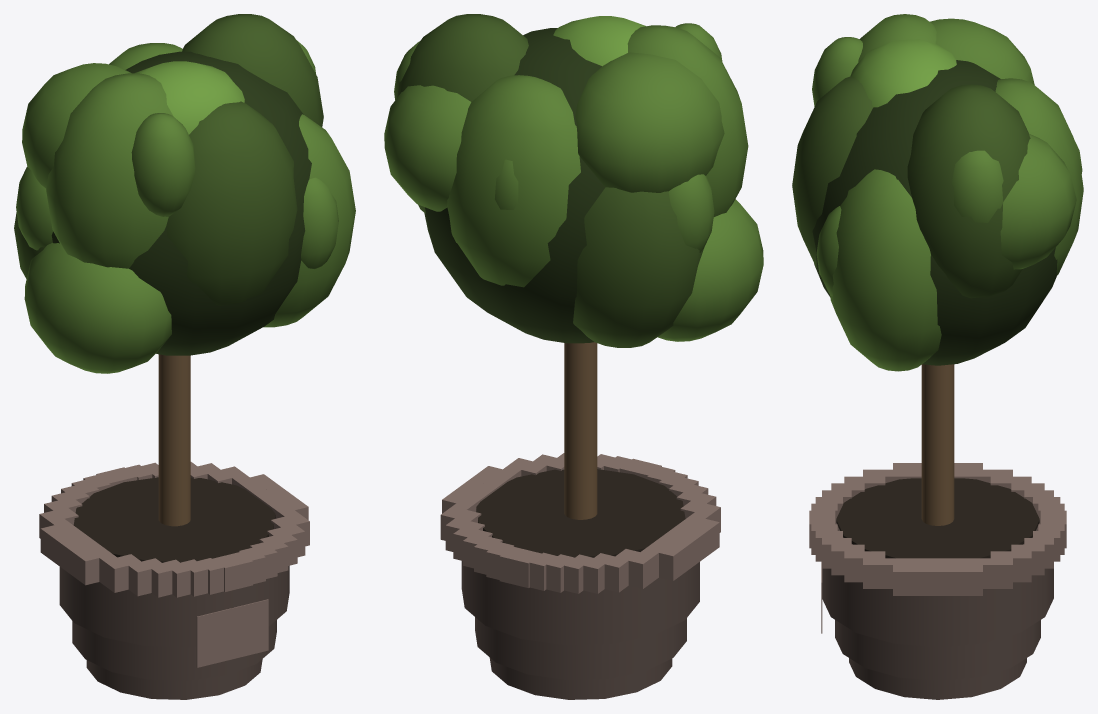
File: CMU3DPottedPlant8.glb
3 views of the same model, side by side, from view 1: azimuth 30°, elevation 25°; view 2: azimuth 150°, elevation 25°; view 3: azimuth 270°, elevation 25° (orthographic). The views are drawn at different scales.
Visible parts, largest first — view 1: rounded irregular leaf spray (×6), uneven outer leaf cluster (×2), shadowed foliage core, recessed soil, hollow curved planter rim (×12), fine leafy crown edge (×3), upper pot wall, branch (×2), lower tapered pot wall, crown highlight, pot front highlight, narrow pot foot; view 2: rounded irregular leaf spray (×4), uneven outer leaf cluster (×3), shadowed foliage core, recessed soil, hollow curved planter rim (×12), upper pot wall, lower tapered pot wall, branch (×2), narrow pot foot, fine leafy crown edge (×2), crown highlight; view 3: rounded irregular leaf spray (×5), shadowed foliage core, recessed soil, upper pot wall, uneven outer leaf cluster (×2), hollow curved planter rim (×7), lower tapered pot wall, fine leafy crown edge (×3), branch (×2), crown highlight, narrow pot foot.
Boxes of the visible parts, x1,y1,x2,y2 form: rounded irregular leaf spray (×6): [14, 14, 355, 327]; uneven outer leaf cluster (×2): [22, 63, 171, 373]; shadowed foliage core: [51, 51, 311, 355]; recessed soil: [73, 477, 275, 562]; hollow curved planter rim (×12): [39, 466, 309, 597]; fine leafy crown edge (×3): [16, 113, 338, 268]; upper pot wall: [59, 565, 289, 647]; branch (×2): [158, 354, 190, 526]; lower tapered pot wall: [72, 620, 276, 680]; crown highlight: [135, 61, 244, 134]; pot front highlight: [196, 599, 268, 667]; narrow pot foot: [86, 659, 262, 699]; rounded irregular leaf spray (×4): [397, 14, 748, 347]; uneven outer leaf cluster (×3): [384, 52, 763, 341]; shadowed foliage core: [424, 28, 605, 343]; recessed soil: [476, 469, 685, 557]; hollow curved planter rim (×12): [440, 458, 720, 593]; upper pot wall: [461, 561, 699, 645]; lower tapered pot wall: [475, 617, 686, 679]; branch (×2): [564, 342, 597, 519]; narrow pot foot: [489, 657, 672, 699]; fine leafy crown edge (×2): [495, 159, 714, 252]; crown highlight: [553, 16, 645, 66]; rounded irregular leaf spray (×5): [792, 14, 1083, 371]; shadowed foliage core: [812, 60, 1057, 365]; recessed soil: [836, 478, 1039, 558]; upper pot wall: [822, 526, 1053, 647]; uneven outer leaf cluster (×2): [930, 18, 1076, 269]; hollow curved planter rim (×7): [831, 469, 1044, 595]; lower tapered pot wall: [835, 620, 1040, 680]; fine leafy crown edge (×3): [812, 37, 1003, 295]; branch (×2): [921, 364, 954, 525]; crown highlight: [850, 39, 956, 107]; narrow pot foot: [849, 658, 1026, 699].
Size of the model in its own units: 0.54 by 1.02 by 0.4413.
